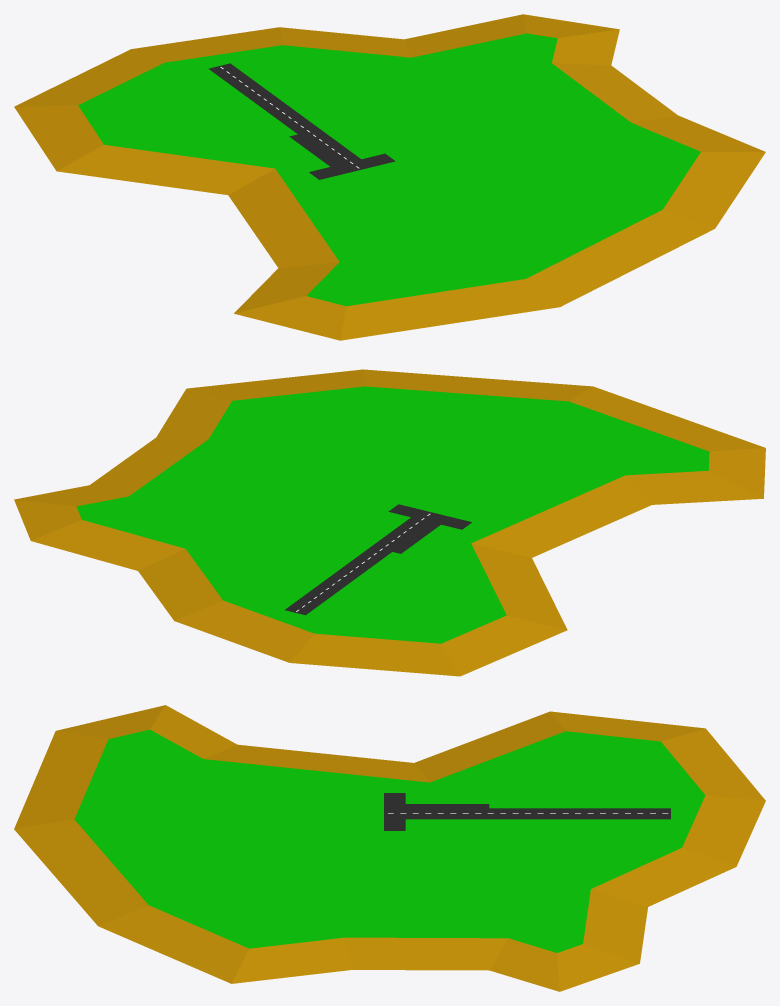
Rendered from island.obj.
The picture shows the model from 3 angles, top to bottom: view 1: azimuth 30°, elevation 25°; view 2: azimuth 150°, elevation 25°; view 3: azimuth 270°, elevation 25°; orthographic projection. The views are drawn at different scales.
Visible parts, largest first — view 1: Cube.001; view 2: Cube.001; view 3: Cube.001.
Boxes of the visible parts, <box> form: Cube.001: <box>14,14,765,340</box>; Cube.001: <box>14,369,765,676</box>; Cube.001: <box>14,705,765,991</box>.
Bounding box in the file's own units: 12.97 × 0.159 × 14.37.
